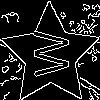W: (25, 30, 69, 78)
